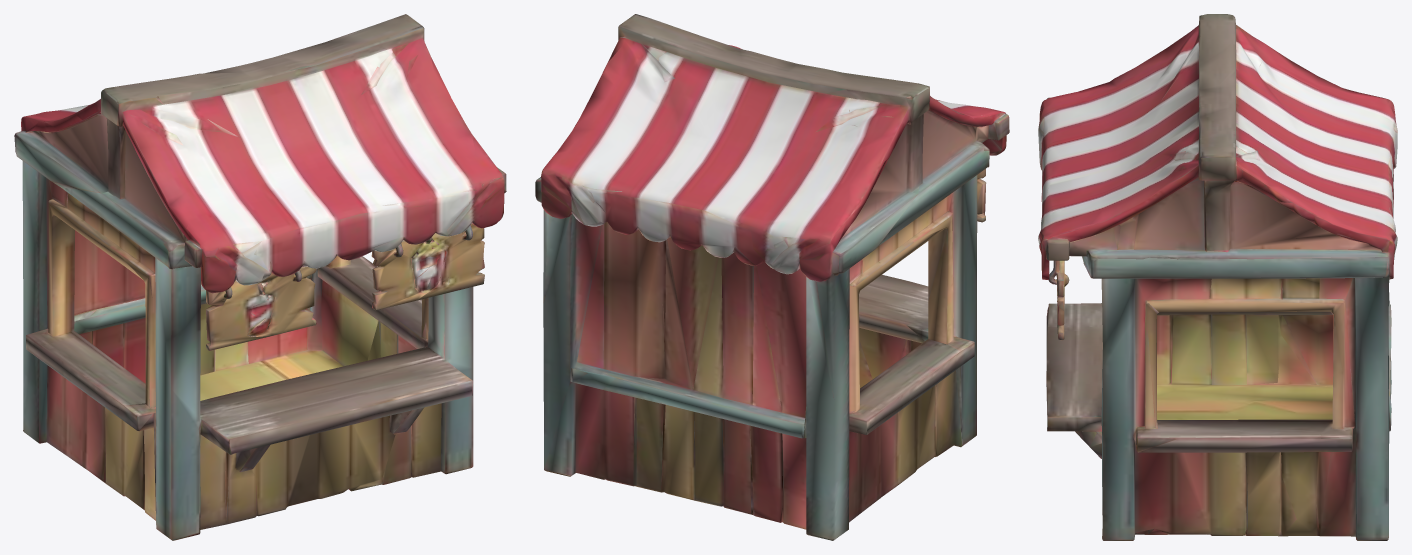
File: building_food.glb
The picture shows the model from 3 angles, left to right: view 1: azimuth 30°, elevation 25°; view 2: azimuth 150°, elevation 25°; view 3: azimuth 270°, elevation 25°; orthographic projection. The views are drawn at different scales.
Parts seen in each view (by area): view 1: Mesh_0; view 2: Mesh_0; view 3: Mesh_0.
Part boxes in pixels (bbox=[...]): Mesh_0: bbox=[14, 14, 506, 540]; Mesh_0: bbox=[535, 14, 1009, 540]; Mesh_0: bbox=[1038, 14, 1397, 540].
Size of the model in its own units: 1.65 by 1.91 by 1.61.
1 material, 1 textured.
